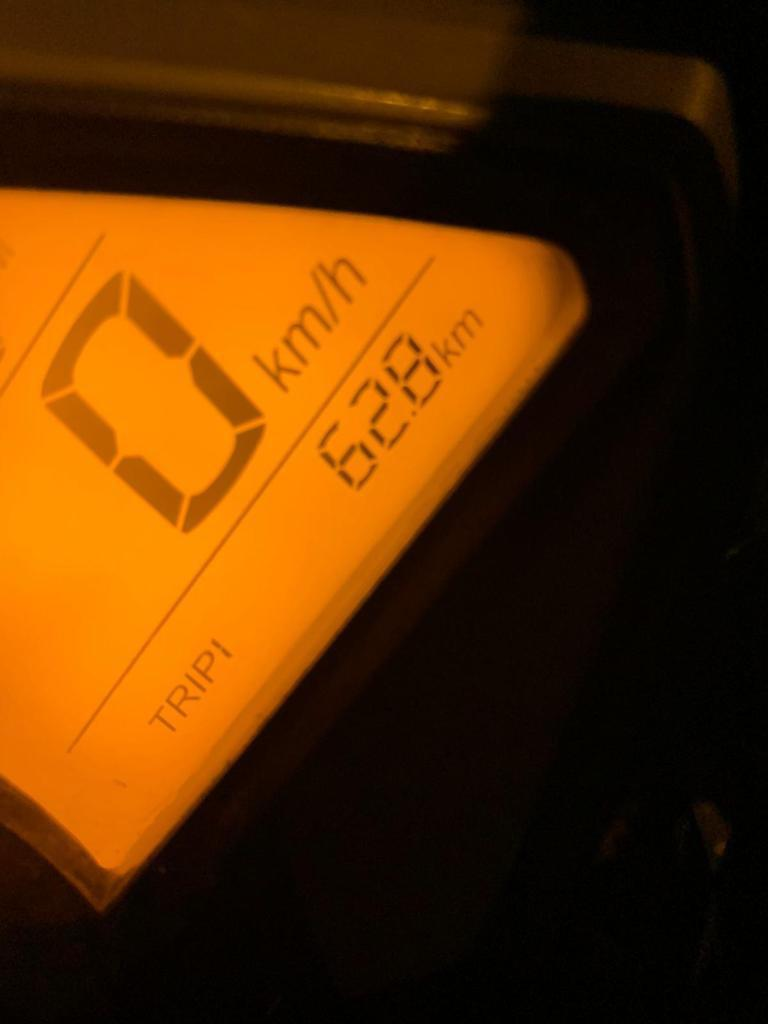,: (407, 406, 419, 420)
0: (33, 267, 267, 537)
1: (210, 636, 232, 660)
2: (347, 376, 406, 449)
6: (314, 419, 377, 492)
8: (382, 333, 441, 406)
X: (280, 304, 330, 367), (315, 254, 366, 303), (251, 346, 301, 394), (307, 268, 339, 327), (447, 306, 483, 350), (164, 684, 199, 717), (429, 336, 460, 369), (147, 704, 176, 734), (190, 649, 214, 684), (182, 672, 207, 694)
odometer: (4, 171, 607, 918)
